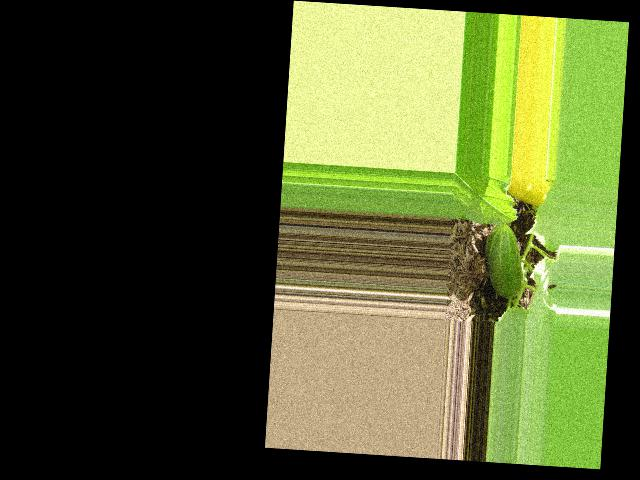cucumber: (480, 223, 526, 299)
